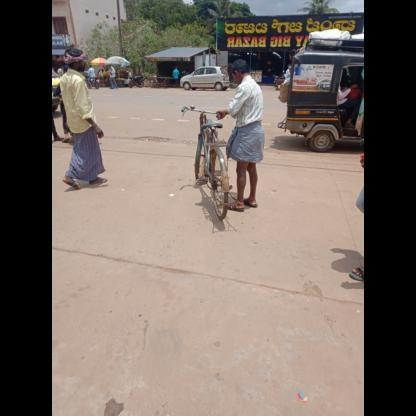Bicycle: (173, 101, 248, 224)
